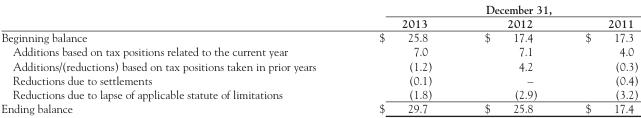table: (0, 1, 637, 114)
table column: (0, 1, 347, 114), (347, 1, 457, 114), (457, 1, 560, 114), (560, 1, 637, 114)
table column header: (0, 1, 637, 29)
table row: (0, 43, 637, 58), (0, 1, 637, 15), (0, 15, 637, 29), (0, 29, 637, 43), (0, 58, 637, 72), (0, 72, 637, 86), (0, 86, 637, 100), (0, 100, 637, 114)
table spanning cell: (347, 1, 637, 15)
